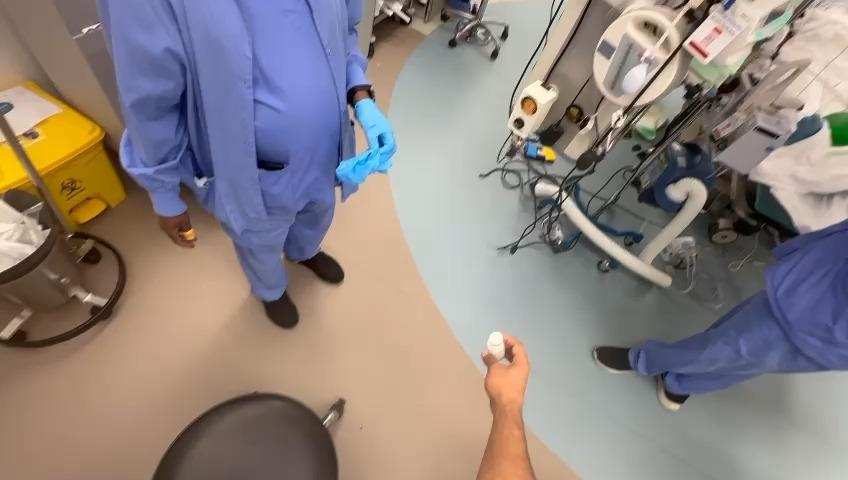augmentin: (487, 331, 505, 360)
